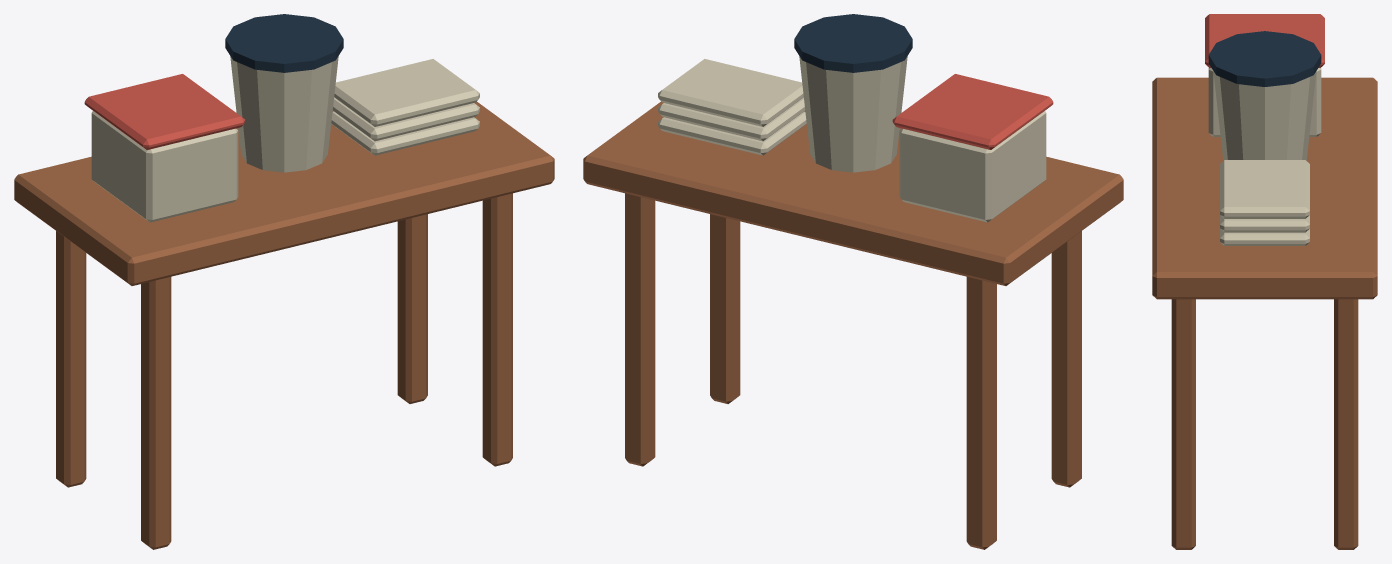
The model's file is takeout.glb.
The picture shows the model from 3 angles, left to right: view 1: azimuth 30°, elevation 25°; view 2: azimuth 150°, elevation 25°; view 3: azimuth 270°, elevation 25°; orthographic projection. The views are drawn at different scales.
Visible parts, largest first — view 1: Base, Target0, Target1, Target2; view 2: Base, Target0, Target1, Target2; view 3: Base, Target1, Target2, Target0.
Boxes of the visible parts, x1,y1,x2,y2 form: Base: [14, 101, 554, 549]; Target0: [84, 74, 245, 222]; Target1: [225, 14, 343, 172]; Target2: [331, 59, 479, 155]; Base: [583, 101, 1123, 549]; Target0: [892, 74, 1053, 222]; Target1: [794, 14, 912, 172]; Target2: [658, 59, 806, 155]; Base: [1152, 77, 1377, 549]; Target1: [1208, 31, 1321, 160]; Target2: [1220, 160, 1309, 245]; Target0: [1205, 14, 1324, 136].
Size of the model in its own units: 1.25 by 1.21 by 0.6.
